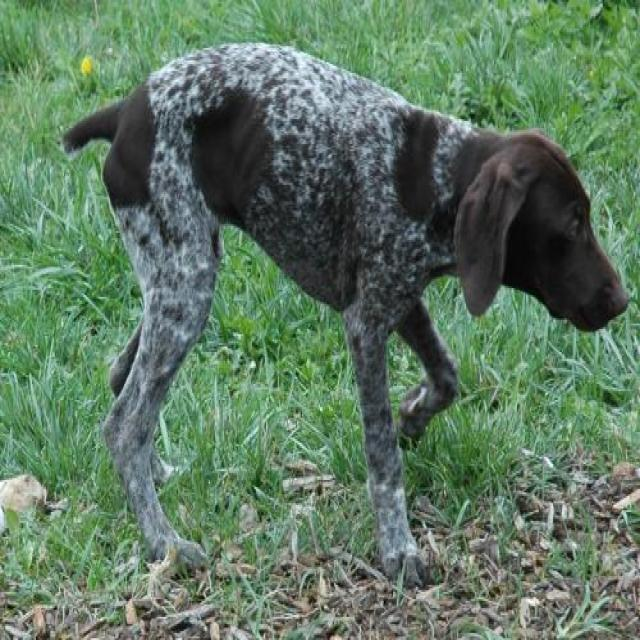Dogs: (60, 38, 629, 588)
